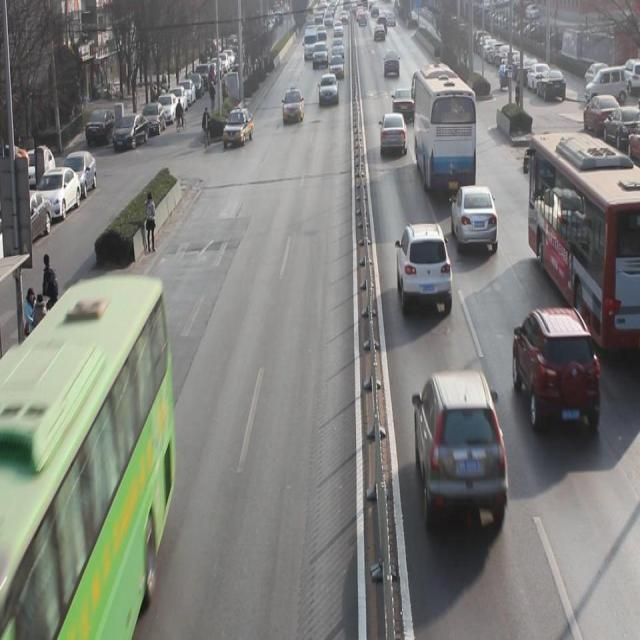car: (414, 372, 510, 538), (510, 300, 602, 434), (395, 220, 455, 316), (448, 180, 501, 253), (379, 110, 410, 158), (221, 106, 254, 146), (392, 85, 416, 121), (282, 86, 304, 125), (318, 70, 340, 104), (383, 46, 400, 75), (312, 40, 329, 68), (329, 50, 345, 76)
truck: (302, 23, 320, 61)
van: (1, 282, 176, 634), (527, 132, 640, 360), (414, 69, 476, 193)
